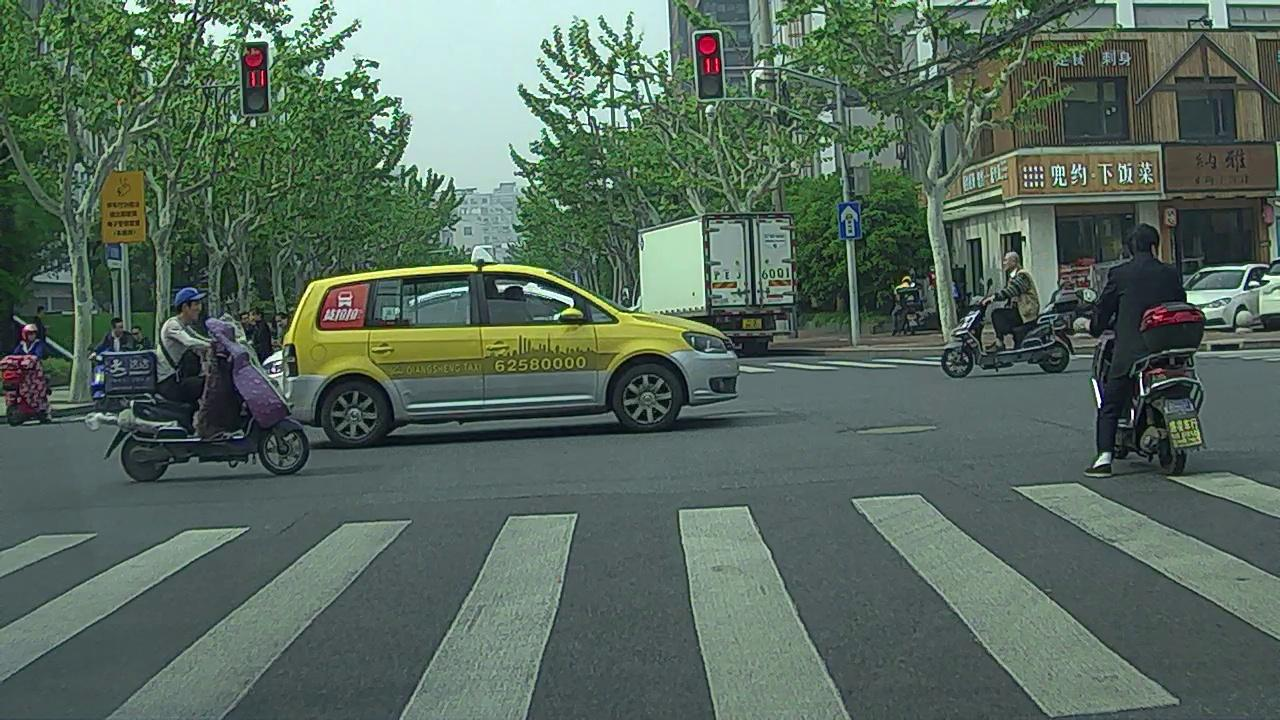traffic_light: (238, 37, 268, 114), (693, 35, 726, 99)
